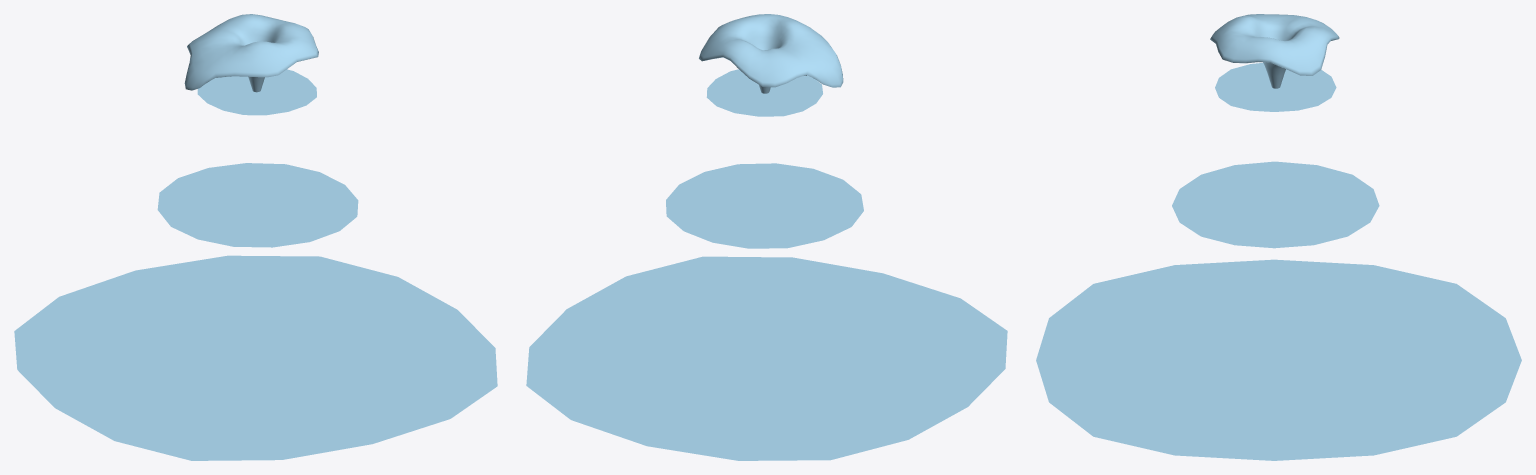
Rendered from fuenteA.obj.
The picture shows the model from 3 angles, left to right: view 1: azimuth 30°, elevation 25°; view 2: azimuth 150°, elevation 25°; view 3: azimuth 270°, elevation 25°; orthographic projection. The views are drawn at different scales.
Visible parts, largest first — view 1: fuente:Mesh; view 2: fuente:Mesh; view 3: fuente:Mesh.
Part boxes in pixels (x1,y1,x2,y2): fuente:Mesh: (14,14,497,460); fuente:Mesh: (526,14,1007,460); fuente:Mesh: (1036,14,1521,460).
Bounding box in the file's own units: 10.48 × 8.19 × 10.69.
1 material, 1 textured.
